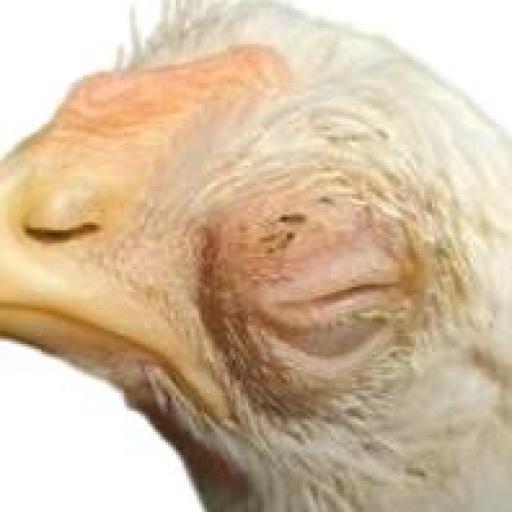disease: (274, 256, 436, 370), (245, 190, 320, 252)
